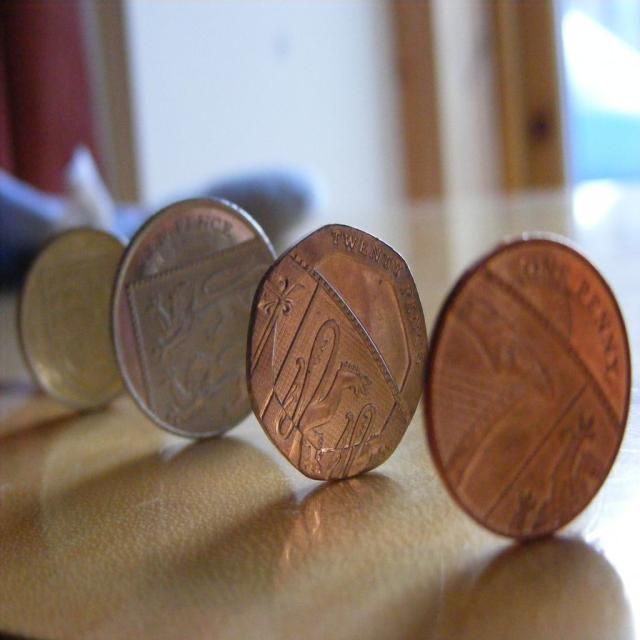Coin: (428, 235, 639, 535), (246, 222, 423, 483), (112, 198, 281, 441), (24, 226, 132, 412)
